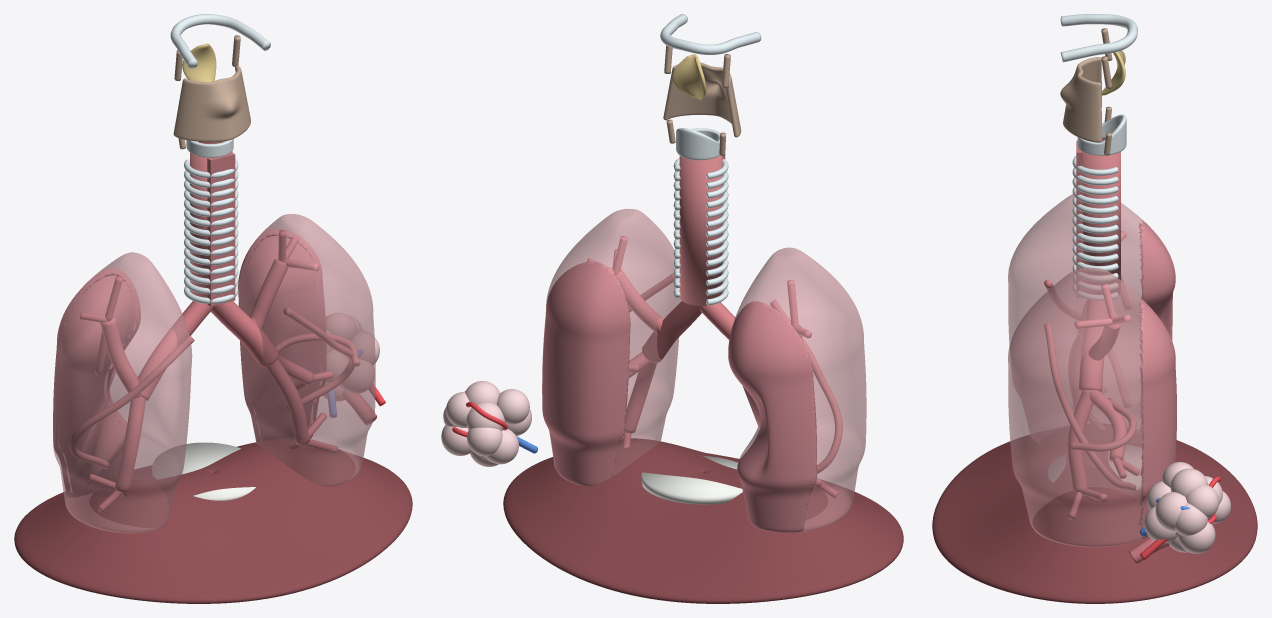
The model's file is human-respiratory-system.glb.
The picture shows the model from 3 angles, left to right: view 1: azimuth 30°, elevation 25°; view 2: azimuth 150°, elevation 25°; view 3: azimuth 270°, elevation 25°; orthographic projection.
Parts seen in each view (by area): view 1: Full_Diaphragm_Muscle, Lung_Left_Full, Lung_Right_Full, Lung_Left_Section, Lung_Right_Section, Full_Thyroid_Cartilage, Full_Trachealis_Muscle, Full_Diaphragm_Central_Tendon, Full_Bronchus_Right_Main, Full_Bronchus_Left_Main, Lung_Left_Full_Oblique_Fissure, Full_Hyoid_Bone (+13 smaller); view 2: Full_Diaphragm_Muscle, Lung_Right_Section, Lung_Left_Full, Lung_Left_Section, Lung_Right_Full, Full_Trachea_Lumen, Full_Thyroid_Cartilage, Full_Diaphragm_Central_Tendon, Full_Bronchus_Right_Main, Full_Hyoid_Bone, Full_Cricoid_Cartilage, Lung_Left_Full_Oblique_Fissure (+11 smaller); view 3: Full_Diaphragm_Muscle, Lung_Right_Full, Lung_Left_Full, Lung_Right_Section, Full_Thyroid_Cartilage, Lung_Left_Section, Full_Trachea_Lumen, Full_Hyoid_Bone, Full_Bronchus_Right_Main, Lung_Right_Full_Oblique_Fissure, Full_Bronchus_Right_Inferior, Full_Cricoid_Cartilage (+14 smaller).
Boxes of the visible parts, bbox=[...] form: Full_Diaphragm_Muscle: bbox=[14, 439, 412, 603]; Lung_Left_Full: bbox=[53, 252, 192, 533]; Lung_Right_Full: bbox=[238, 214, 375, 486]; Lung_Left_Section: bbox=[53, 268, 140, 497]; Lung_Right_Section: bbox=[238, 228, 326, 441]; Full_Thyroid_Cartilage: bbox=[173, 65, 250, 141]; Full_Trachealis_Muscle: bbox=[207, 152, 235, 306]; Full_Diaphragm_Central_Tendon: bbox=[152, 442, 255, 500]; Full_Bronchus_Right_Main: bbox=[210, 301, 279, 367]; Full_Bronchus_Left_Main: bbox=[138, 301, 213, 400]; Lung_Left_Full_Oblique_Fissure: bbox=[69, 335, 194, 468]; Full_Hyoid_Bone: bbox=[170, 14, 270, 68]; Full_Diaphragm_Muscle: bbox=[503, 438, 903, 603]; Lung_Right_Section: bbox=[542, 261, 630, 486]; Lung_Left_Full: bbox=[732, 247, 866, 532]; Lung_Left_Section: bbox=[728, 301, 816, 532]; Lung_Right_Full: bbox=[542, 208, 680, 475]; Full_Trachea_Lumen: bbox=[679, 155, 722, 305]; Full_Thyroid_Cartilage: bbox=[663, 62, 741, 137]; Full_Diaphragm_Central_Tendon: bbox=[641, 455, 742, 504]; Full_Bronchus_Right_Main: bbox=[642, 301, 701, 362]; Full_Hyoid_Bone: bbox=[660, 14, 761, 54]; Full_Cricoid_Cartilage: bbox=[676, 128, 720, 160]; Lung_Left_Full_Oblique_Fissure: bbox=[770, 300, 842, 473]; Full_Diaphragm_Muscle: bbox=[932, 424, 1257, 603]; Lung_Right_Full: bbox=[1008, 267, 1145, 547]; Lung_Left_Full: bbox=[1008, 194, 1145, 442]; Lung_Right_Section: bbox=[1139, 299, 1176, 538]; Full_Thyroid_Cartilage: bbox=[1060, 57, 1101, 142]; Lung_Left_Section: bbox=[1139, 220, 1175, 440]; Full_Trachea_Lumen: bbox=[1082, 138, 1120, 294]; Full_Hyoid_Bone: bbox=[1060, 14, 1137, 62]; Full_Bronchus_Right_Main: bbox=[1078, 300, 1107, 391]; Lung_Right_Full_Oblique_Fissure: bbox=[1044, 323, 1136, 491]; Full_Bronchus_Right_Inferior: bbox=[1068, 389, 1093, 491]; Full_Cricoid_Cartilage: bbox=[1077, 114, 1126, 155].
Size of the model in its own units: 0.1903 by 0.2348 by 0.1377.
